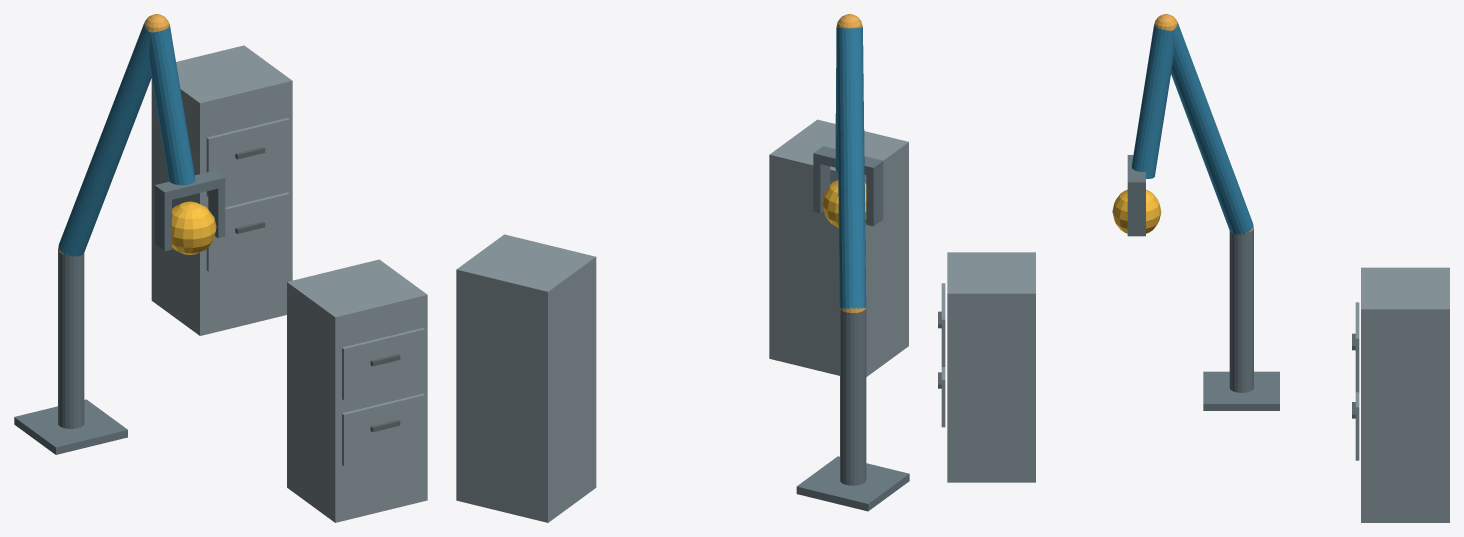
The picture shows the model from 3 angles, left to right: view 1: azimuth 30°, elevation 25°; view 2: azimuth 150°, elevation 25°; view 3: azimuth 270°, elevation 25°; orthographic projection. The views are drawn at different scales.
Visible parts, largest first — view 1: cabinet_1 body, cabinet_2 body, moving link 1, fixed post, cabinet_2 drawer front.001, cabinet_1 drawer front.001, cabinet_1 drawer front, cabinet_2 drawer front, moving link 2, pedestal, ball ball_1, gripper bridge (+2 smaller); view 2: cabinet_2 body, cabinet_1 body, moving link 1, fixed post, pedestal, gripper finger -1, gripper bridge, gripper finger 1, ball ball_1; view 3: cabinet_2 body, cabinet_1 body, moving link 1, fixed post, moving link 2, pedestal, ball ball_1, gripper finger 1.
Boxes of the visible parts, x1,y1,x2,y2 form: cabinet_1 body: (287, 259, 427, 522); cabinet_2 body: (151, 45, 292, 335); moving link 1: (58, 22, 151, 256); fixed post: (58, 251, 84, 428); cabinet_2 drawer front.001: (206, 118, 289, 196); cabinet_1 drawer front.001: (342, 328, 425, 400); cabinet_1 drawer front: (342, 393, 425, 465); cabinet_2 drawer front: (206, 192, 289, 271); moving link 2: (149, 25, 195, 185); pedestal: (14, 399, 127, 454); ball ball_1: (172, 201, 216, 254); gripper bridge: (154, 170, 225, 201); cabinet_2 body: (456, 234, 596, 522); cabinet_1 body: (769, 119, 908, 376); moving link 1: (836, 27, 866, 308); fixed post: (840, 307, 866, 485); pedestal: (796, 456, 909, 511); gripper finger -1: (866, 170, 883, 226); gripper bridge: (813, 146, 883, 176); gripper finger 1: (813, 162, 830, 213); ball ball_1: (822, 180, 866, 227); cabinet_2 body: (1361, 267, 1449, 522); cabinet_1 body: (947, 252, 1035, 482); moving link 1: (1171, 21, 1253, 234); fixed post: (1229, 228, 1253, 392); moving link 2: (1131, 24, 1173, 178); pedestal: (1203, 371, 1279, 410); ball ball_1: (1112, 189, 1161, 233); gripper finger 1: (1127, 190, 1145, 236).
Bounding box in the file's own units: 1.12 × 1.44 × 1.67.
